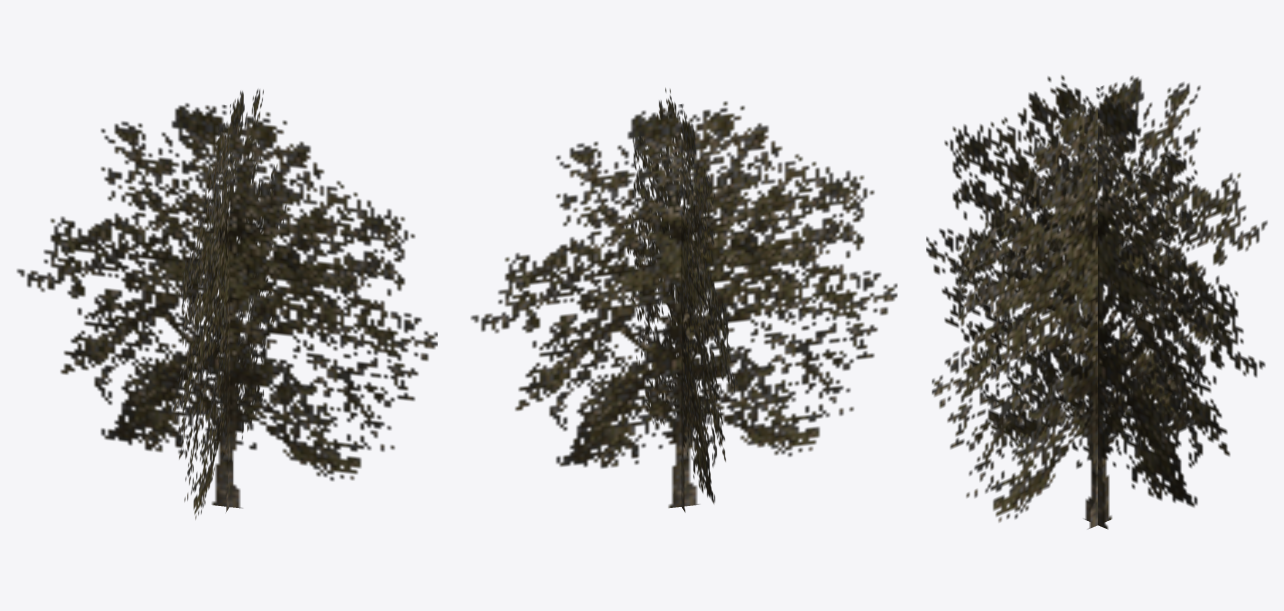
File: tree029.glb
3 renders of one model, left to right at view 1: azimuth 30°, elevation 25°; view 2: azimuth 150°, elevation 25°; view 3: azimuth 270°, elevation 25°, orthographic. The views are drawn at different scales.
Parts seen in each view (by area): view 1: tree029; view 2: tree029; view 3: tree029.
Boxes of the visible parts, x1,y1,x2,y2 form: tree029: (16,89,437,519); tree029: (470,88,897,512); tree029: (926,75,1267,529).
Bounding box in the file's own units: 2.14 × 3.1 × 2.14.
1 material, 1 textured.
